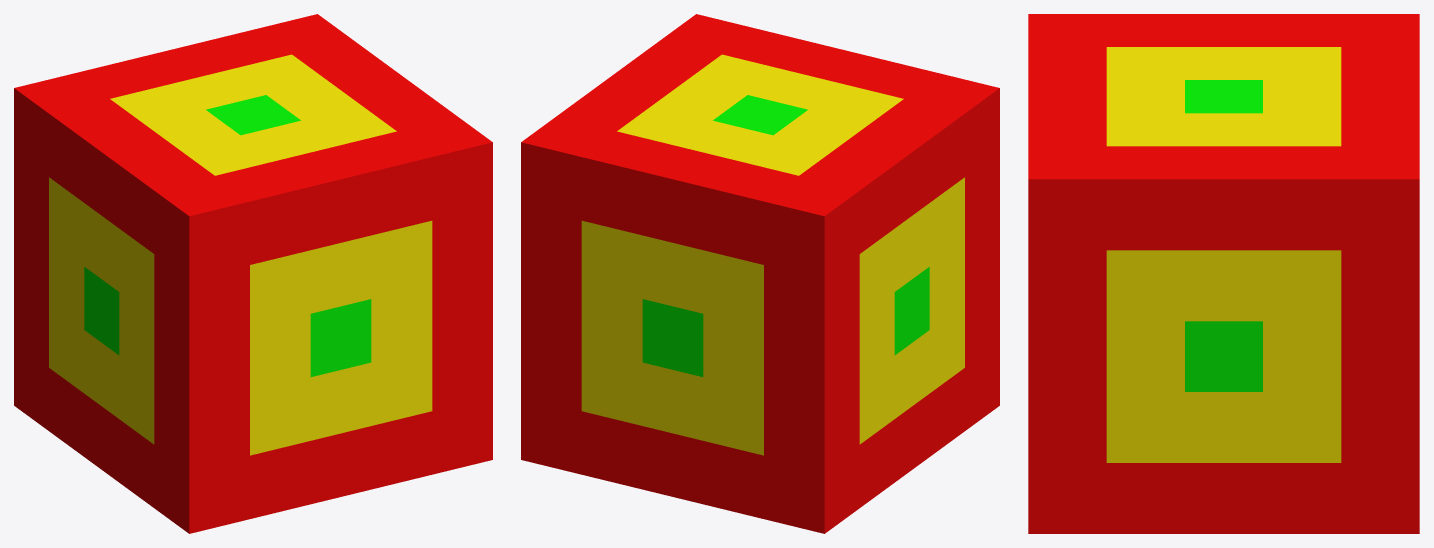
3 views of the same model, side by side, from view 1: azimuth 30°, elevation 25°; view 2: azimuth 150°, elevation 25°; view 3: azimuth 270°, elevation 25° (orthographic). The views are drawn at different scales.
Visible parts, largest first — view 1: Объект_Куб_6; view 2: Объект_Куб_6; view 3: Объект_Куб_6.
Boxes of the visible parts, x1,y1,x2,y2 form: Объект_Куб_6: (14, 14, 492, 533); Объект_Куб_6: (521, 14, 999, 533); Объект_Куб_6: (1028, 14, 1419, 533).
Bounding box in the file's own units: 1 × 1 × 1.
